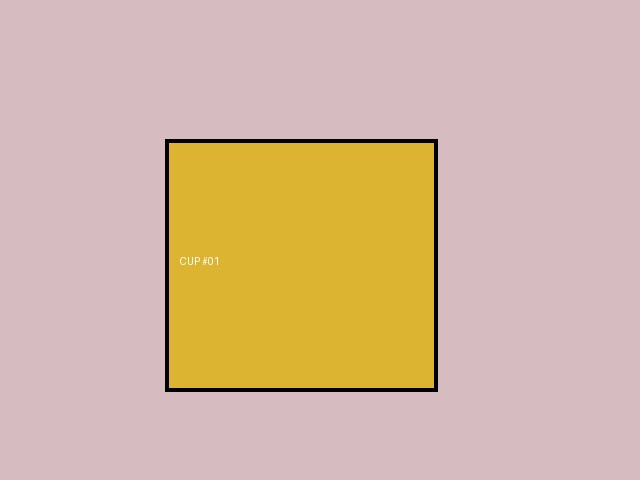cup: (165, 139, 437, 391)
